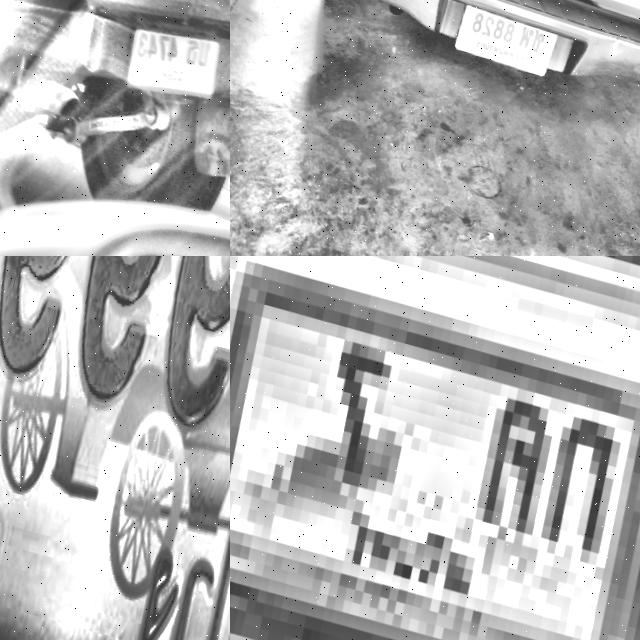license-plate: (230, 256, 640, 640), (0, 256, 230, 640), (109, 8, 224, 109), (443, 0, 557, 79)
